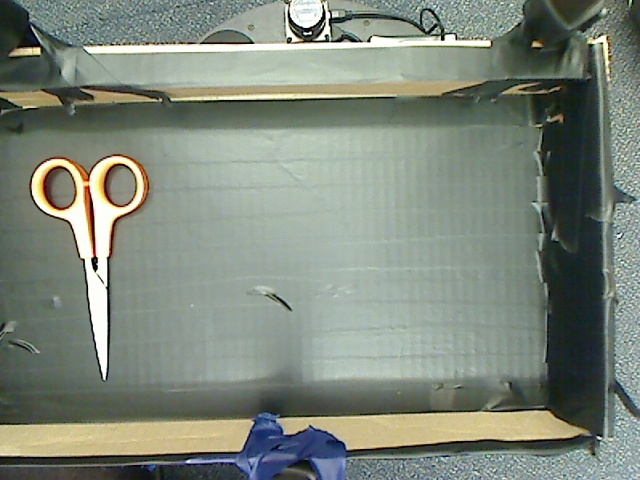scissors: (22, 140, 172, 385)
